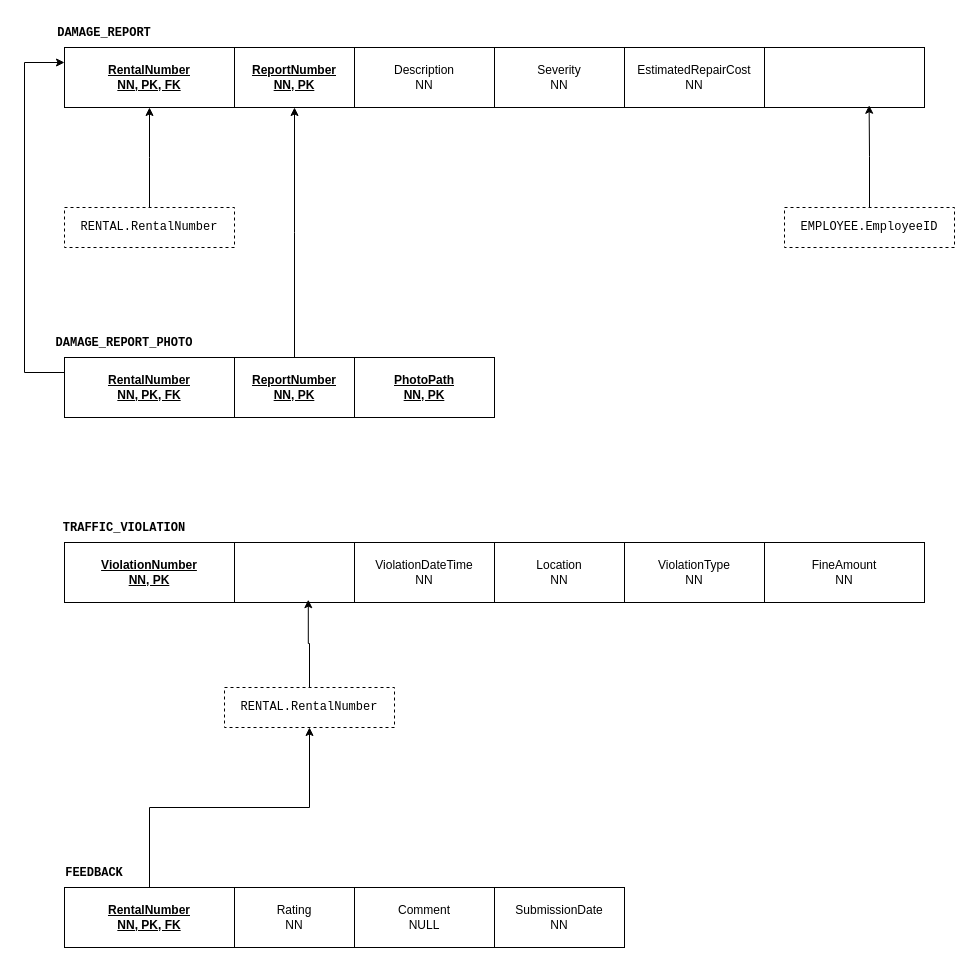
The diagram is 972 pixels wide and 965 high, and some of its shapes have lost their labels. Here are the shapes that lost their labels. From the top down, the centre of each, then its label:
At pixel 844 77: "ReportedByEmployeeID NN, FK".
At pixel 294 572: "RentalNumber NN, FK".
